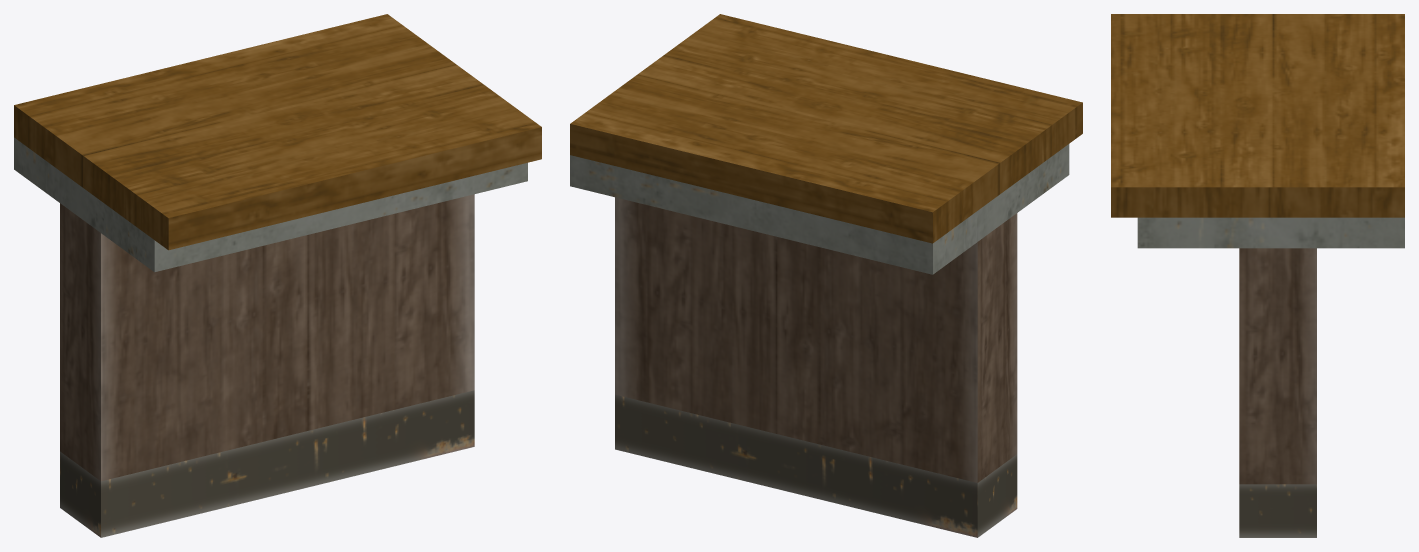
File: tablecounter02b.fbx
3 renders of one model, left to right at view 1: azimuth 30°, elevation 25°; view 2: azimuth 150°, elevation 25°; view 3: azimuth 270°, elevation 25°, orthographic. The views are drawn at different scales.
Visible parts, largest first — view 1: tablecounter02b; view 2: tablecounter02b; view 3: tablecounter02b.
Boxes of the visible parts, x1,y1,x2,y2 form: tablecounter02b: (14,14,541,537); tablecounter02b: (570,14,1082,537); tablecounter02b: (1111,14,1404,537).
Bounding box in the file's own units: 0.927 × 0.8754 × 0.6642.
